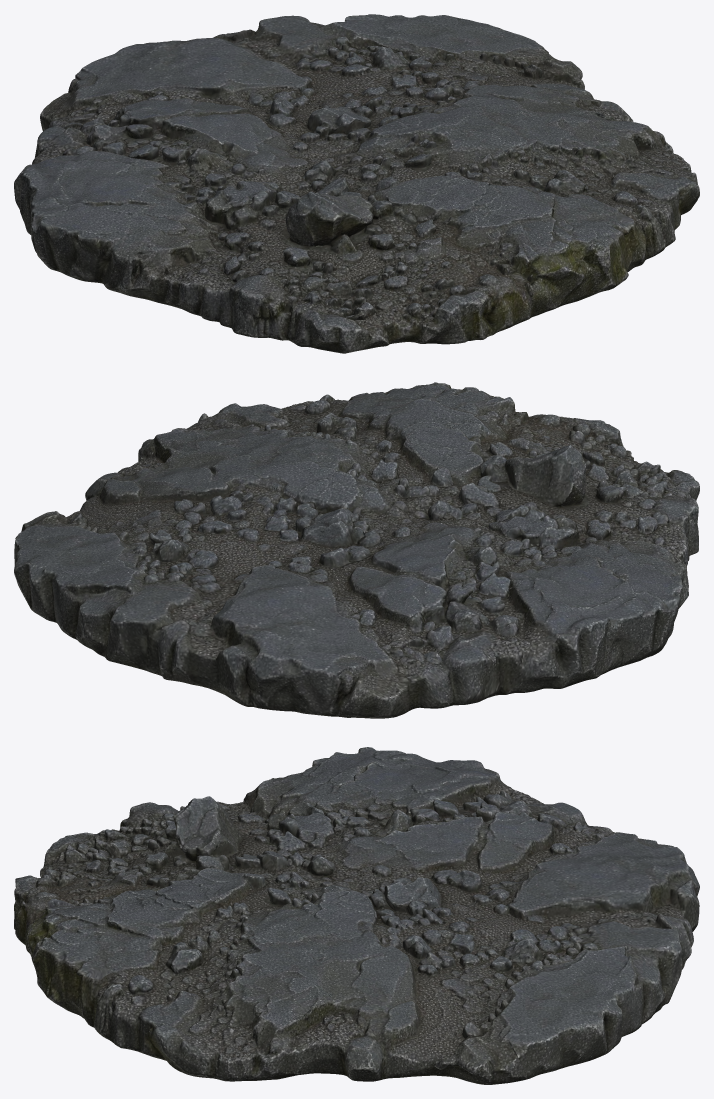
Rendered from rocky+surface+3d+model.glb.
3 views of the same model, one above another, from view 1: azimuth 30°, elevation 25°; view 2: azimuth 150°, elevation 25°; view 3: azimuth 270°, elevation 25° (orthographic).
Parts seen in each view (by area): view 1: tripo_node_f7acc915-3db0-4fcd-87c7-abe7af709f3b; view 2: tripo_node_f7acc915-3db0-4fcd-87c7-abe7af709f3b; view 3: tripo_node_f7acc915-3db0-4fcd-87c7-abe7af709f3b.
Boxes of the visible parts, bbox=[...] form: tripo_node_f7acc915-3db0-4fcd-87c7-abe7af709f3b: bbox=[14, 14, 699, 353]; tripo_node_f7acc915-3db0-4fcd-87c7-abe7af709f3b: bbox=[14, 382, 699, 718]; tripo_node_f7acc915-3db0-4fcd-87c7-abe7af709f3b: bbox=[14, 747, 699, 1084].
Size of the model in its own units: 0.9802 by 0.1508 by 0.9722.
Materials: 1 (1 with a texture image).
